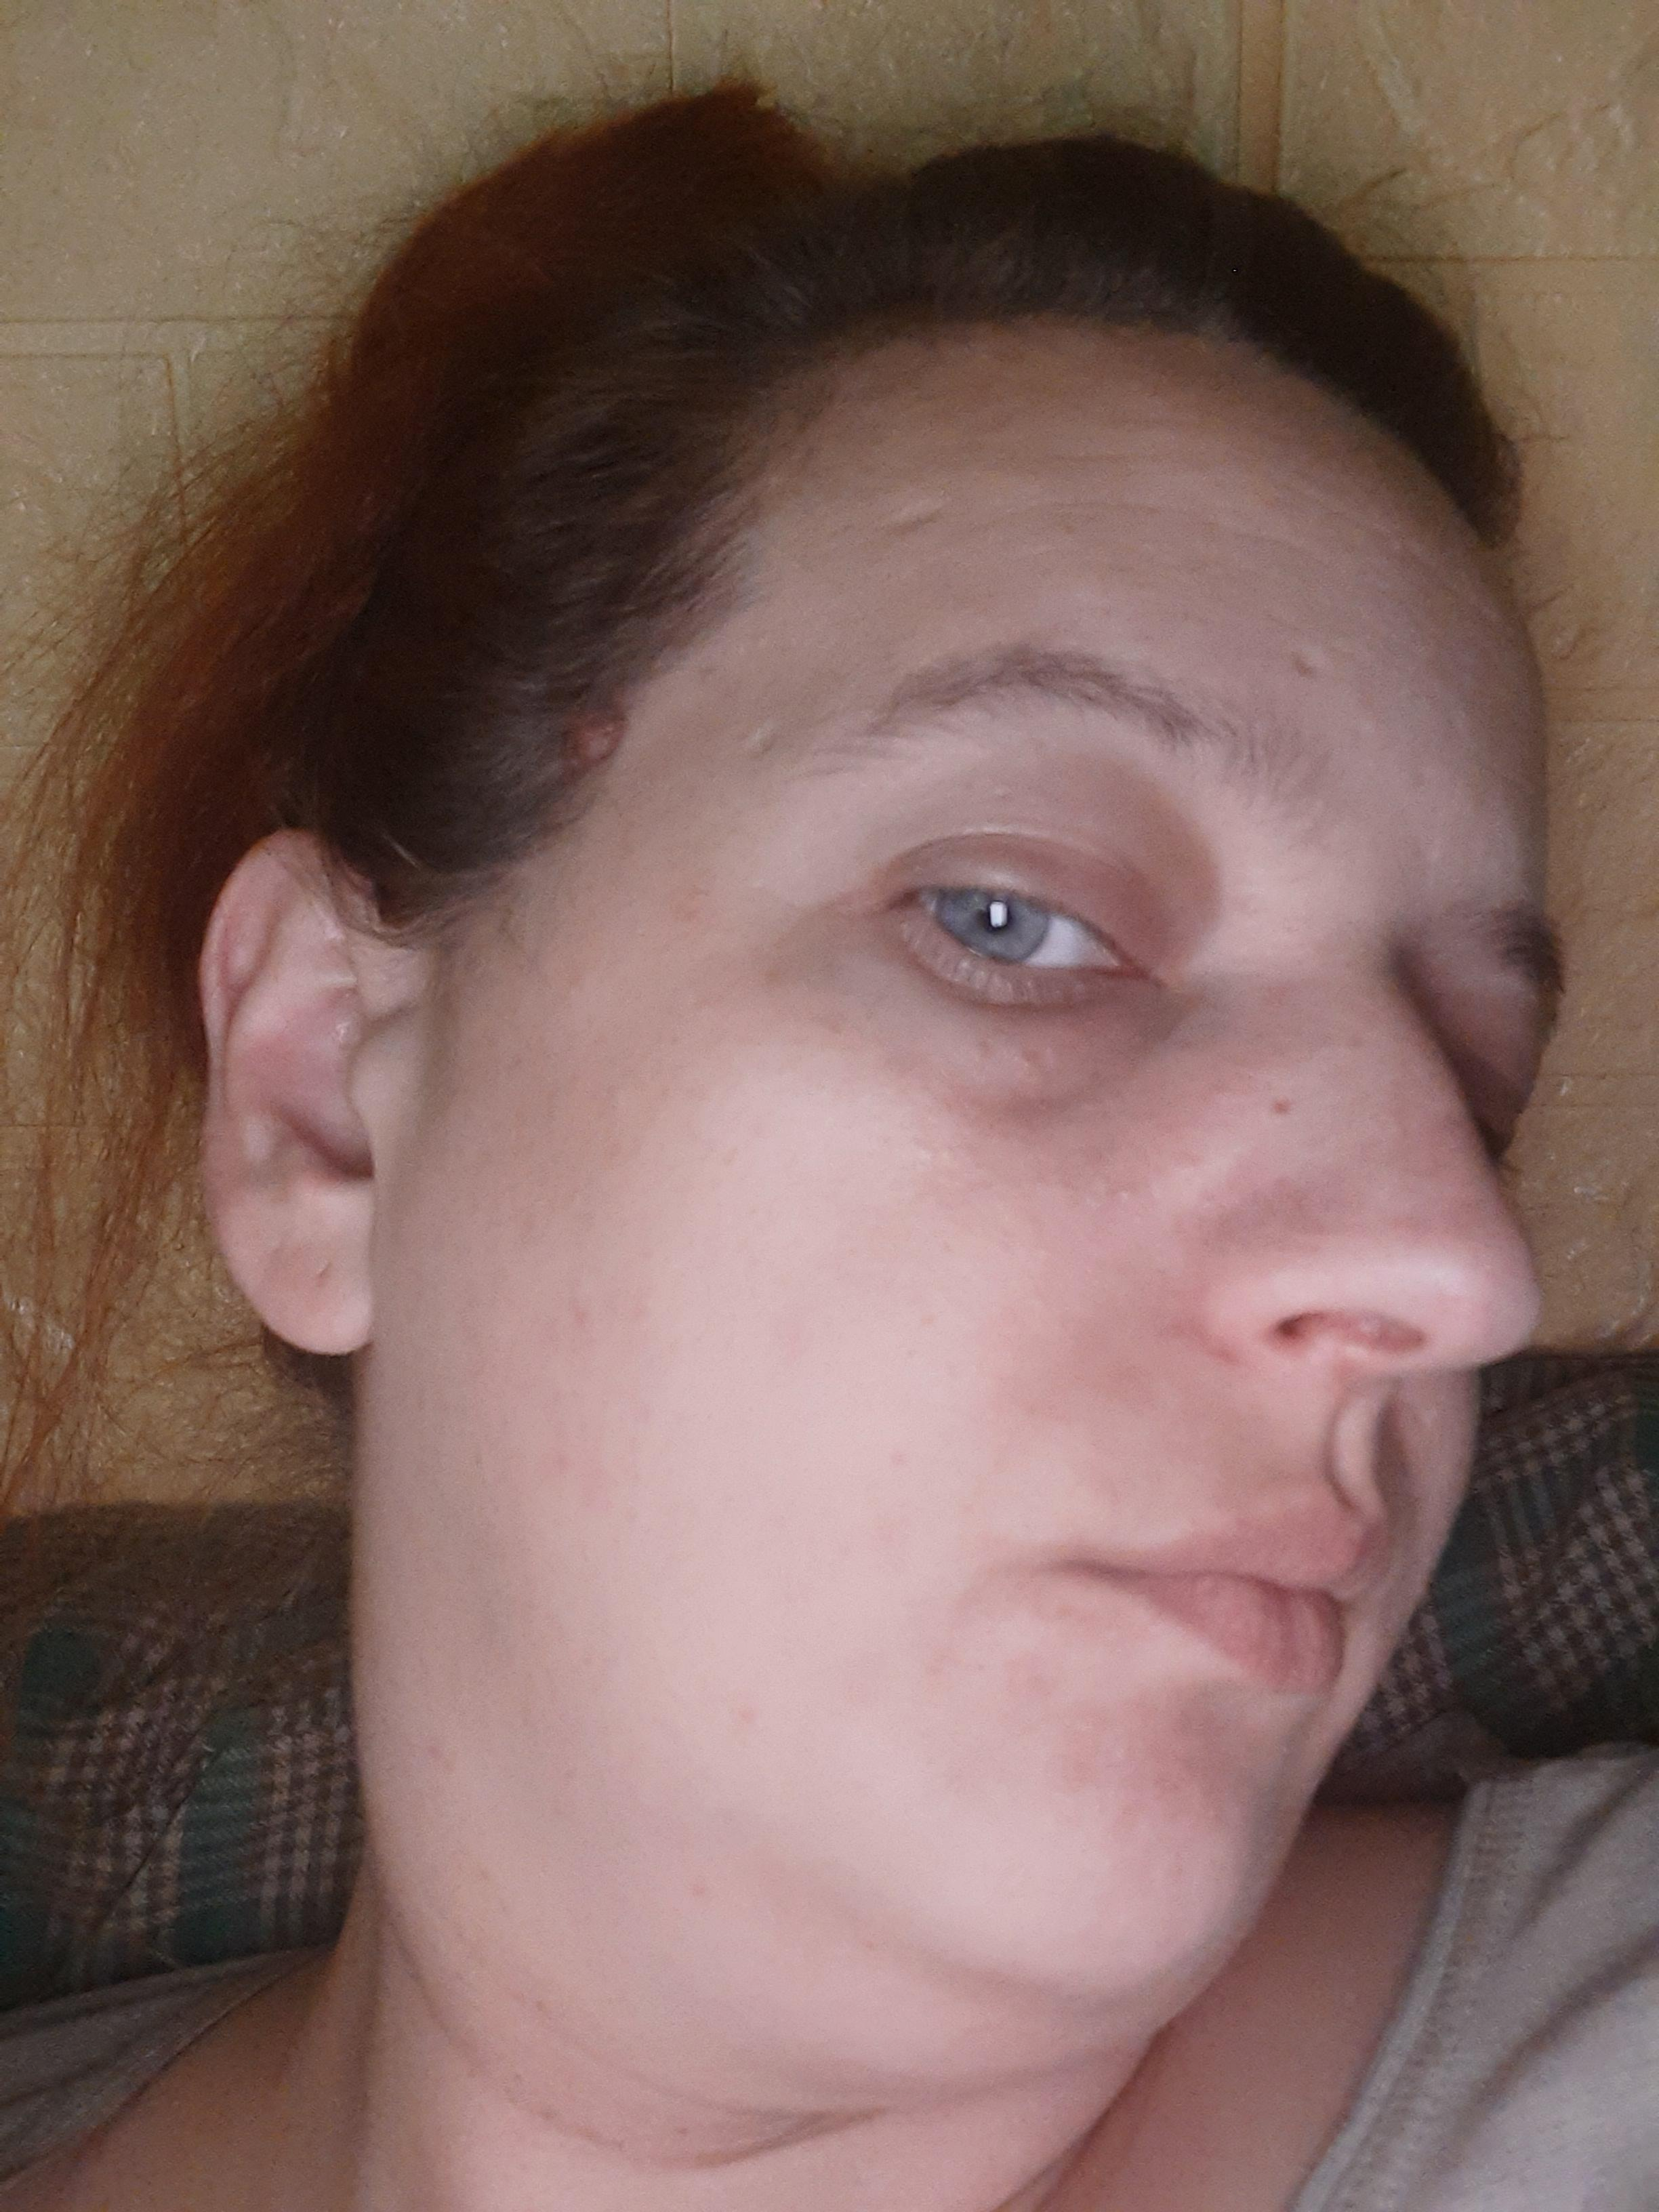Acne: (1040, 1688, 1277, 1846), (526, 1439, 640, 1531), (890, 1130, 978, 1202), (988, 1644, 1049, 1710), (965, 1026, 1053, 1071)
Wrinkles: (1260, 462, 1511, 634), (918, 495, 1323, 561)
